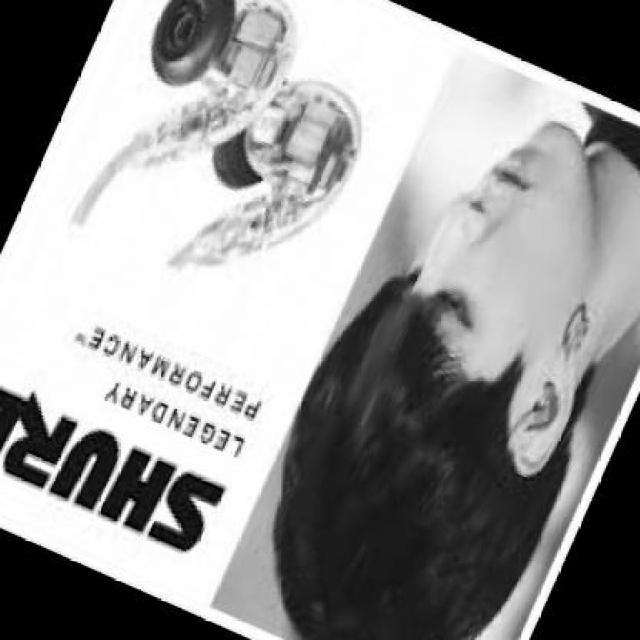earphone: (526, 382, 564, 438)
